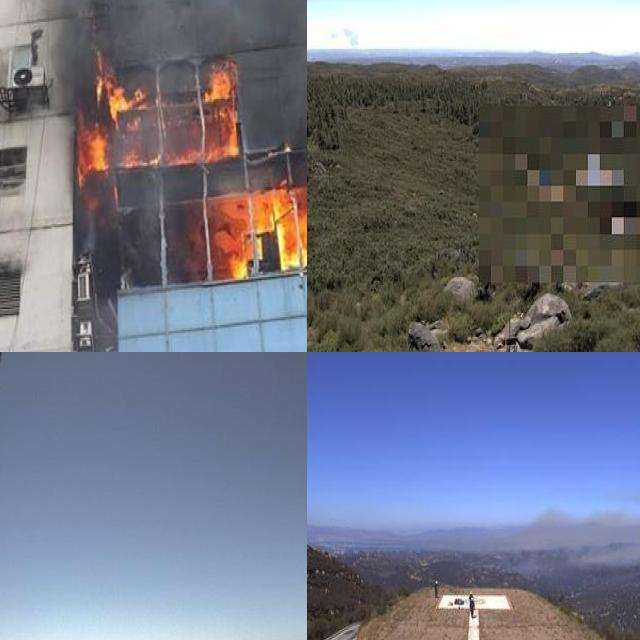fire: (81, 55, 307, 268)
smoke: (46, 0, 307, 147), (542, 491, 640, 577), (331, 25, 362, 54)
